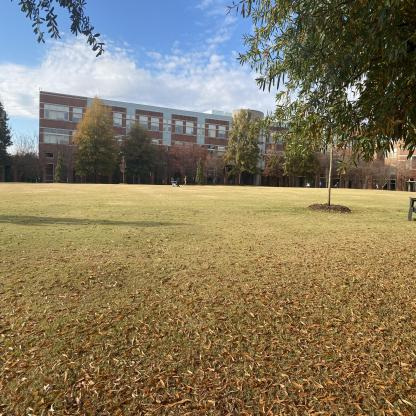EB-1: (37, 82, 398, 200)
